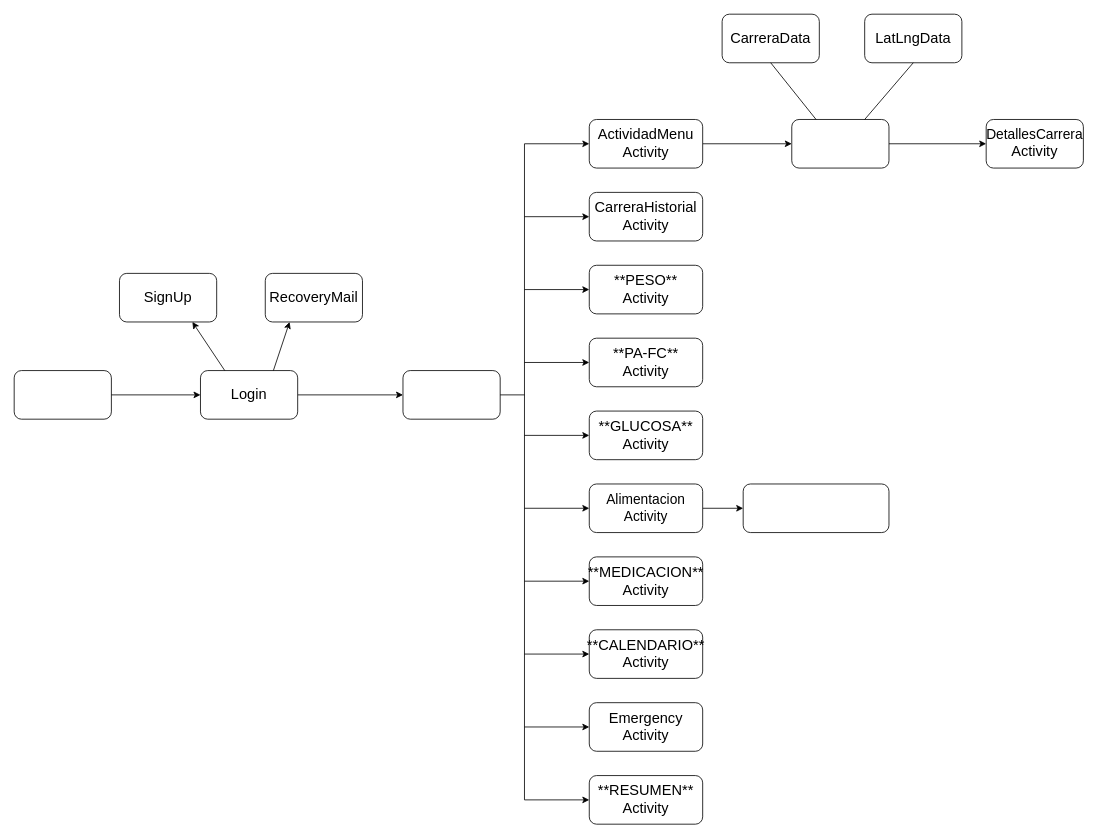
Some shapes in this 1098 by 838 pixel diagram are drawn without their labels. The shapes that lost their labels are listed below. From the top down, each one's centre as x and y in pixels, then its label:
At (x=840, y=143): "Tracking Activity".
At (x=62, y=394): "Splash".
At (x=451, y=394): "Main Activity".
At (x=815, y=508): "AlimentacionHistorial Activity".
